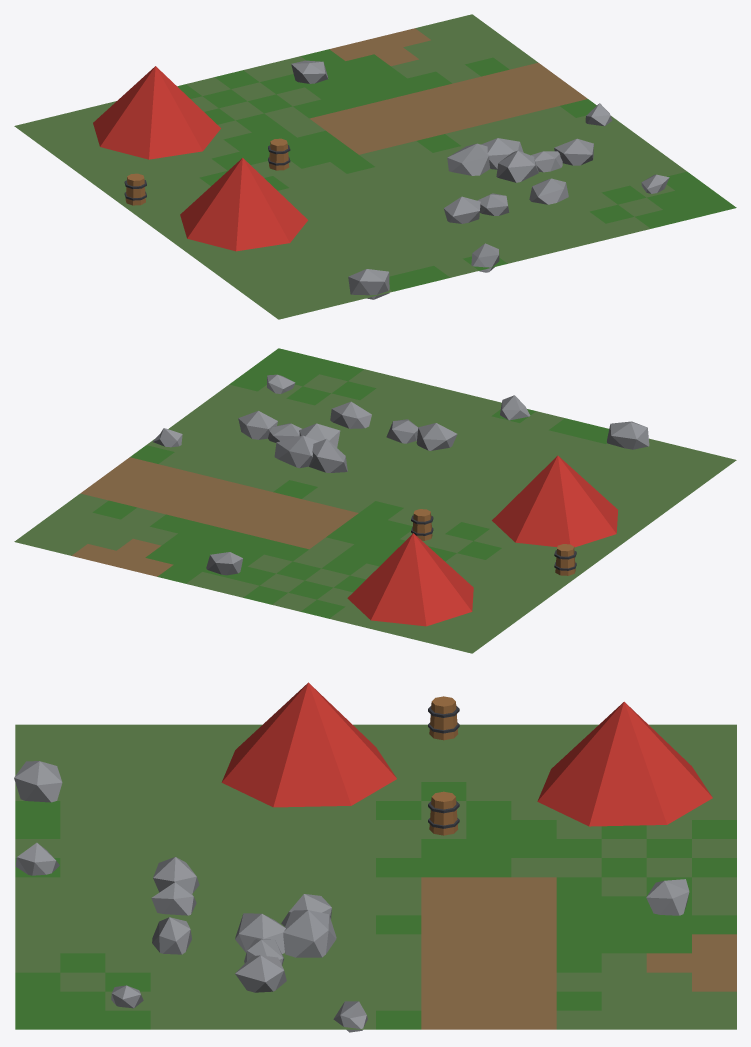
File: chunk_10_15.glb
3 renders of one model, top to bottom at view 1: azimuth 30°, elevation 25°; view 2: azimuth 150°, elevation 25°; view 3: azimuth 270°, elevation 25°, orthographic. The views are drawn at different scales.
Visible parts, largest first — view 1: chunk_10_15; view 2: chunk_10_15; view 3: chunk_10_15.
Part boxes in pixels (bbox=[...]): chunk_10_15: bbox=[14, 14, 736, 319]; chunk_10_15: bbox=[14, 348, 736, 653]; chunk_10_15: bbox=[14, 682, 736, 1032].
Size of the model in its own units: 16 by 2.71 by 16.03.
